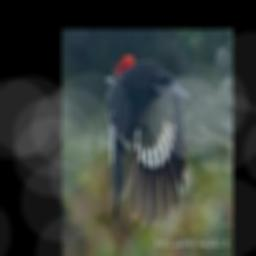Woodpecker: (105, 54, 191, 229)
